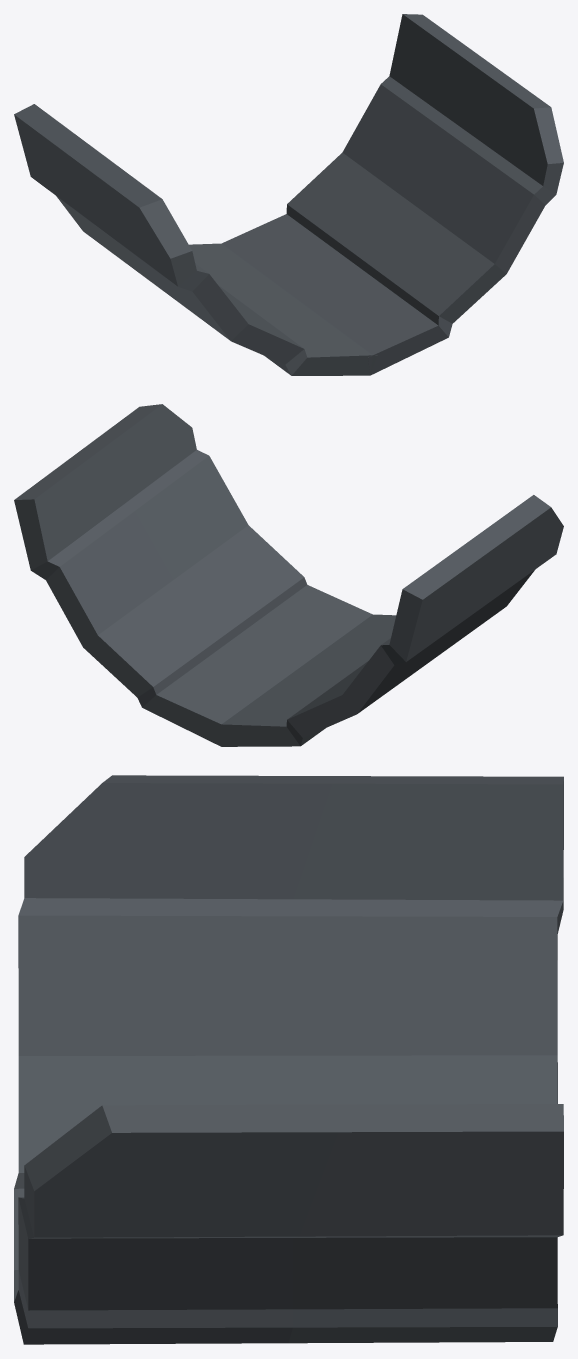
Rendered from Fighter_03_Bottom_Frame_Blue.fbx.
3 renders of one model, top to bottom at view 1: azimuth 30°, elevation 25°; view 2: azimuth 150°, elevation 25°; view 3: azimuth 270°, elevation 25°, orthographic. The views are drawn at different scales.
Visible parts, largest first — view 1: Fighter_03_Bottom_Frame_Blue; view 2: Fighter_03_Bottom_Frame_Blue; view 3: Fighter_03_Bottom_Frame_Blue.
Boxes of the visible parts, <box> form: Fighter_03_Bottom_Frame_Blue: <box>14,14,563,375</box>; Fighter_03_Bottom_Frame_Blue: <box>14,404,563,746</box>; Fighter_03_Bottom_Frame_Blue: <box>14,775,563,1344</box>.
Bounding box in the file's own units: 292 × 139 × 190.
Materials: 1 (1 with a texture image).
